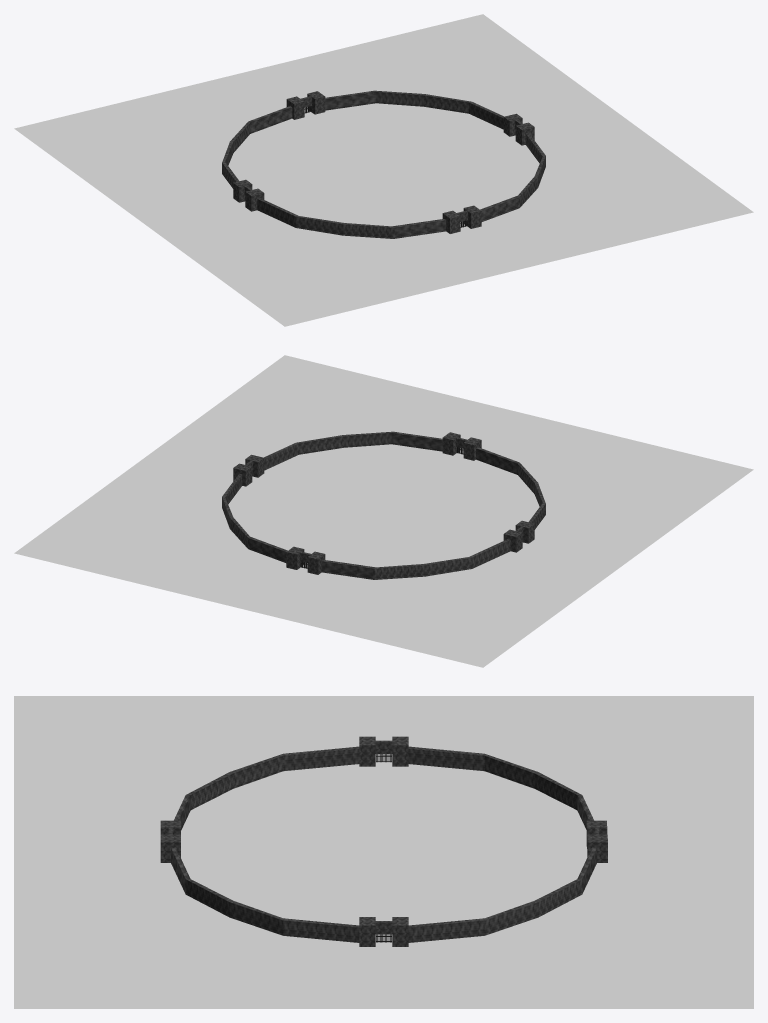
The model's file is Arena01Main.dae.
The picture shows the model from 3 angles, top to bottom: view 1: azimuth 30°, elevation 25°; view 2: azimuth 150°, elevation 25°; view 3: azimuth 270°, elevation 25°; orthographic projection. The views are drawn at different scales.
Visible parts, largest first — view 1: Arena01Ground, Arena01Walls, Arena01Gates; view 2: Arena01Ground, Arena01Walls, Arena01Gates; view 3: Arena01Ground, Arena01Walls, Arena01Gates.
Part boxes in pixels (<box>): Arena01Ground: <box>14,14,753,326</box>; Arena01Walls: <box>222,90,545,238</box>; Arena01Gates: <box>233,91,534,233</box>; Arena01Ground: <box>14,355,753,667</box>; Arena01Walls: <box>222,431,545,579</box>; Arena01Gates: <box>233,432,534,574</box>; Arena01Ground: <box>14,696,753,1008</box>; Arena01Walls: <box>171,746,596,942</box>; Arena01Gates: <box>160,736,607,946</box>.
Bounding box in the file's own units: 295 × 295 × 10.37.
3 materials, 1 textured.
